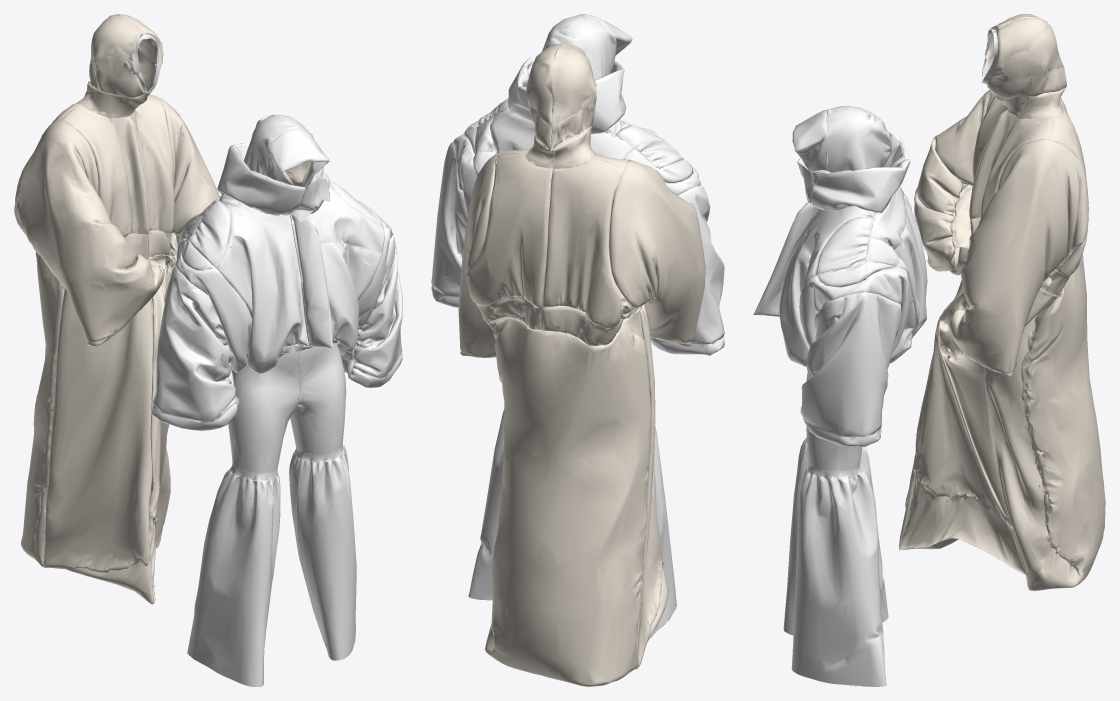
Rendered from look-05.glb.
The picture shows the model from 3 angles, left to right: view 1: azimuth 30°, elevation 25°; view 2: azimuth 150°, elevation 25°; view 3: azimuth 270°, elevation 25°; orthographic projection. The views are drawn at different scales.
Visible parts, largest first — view 1: object 1; view 2: object 1; view 3: object 1.
Boxes of the visible parts, <box> form: object 1: <box>14,14,402,686</box>; object 1: <box>431,14,724,686</box>; object 1: <box>753,14,1105,686</box>.
Size of the model in its own units: 9.84 by 19.02 by 10.01.
